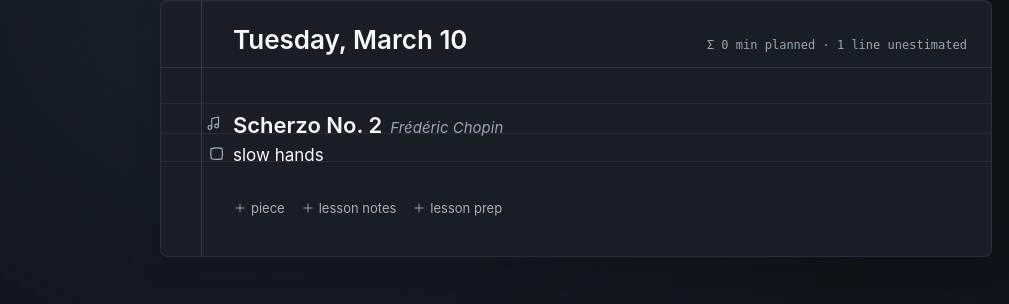
DaySheet — timed blocks + header total (spec 1/2) › adds a timed block from the focused item's chip
The width and height of the screenshot is (1009, 304).
Focus the text box showing "slow hands": (600, 155) [233,140,967,170]
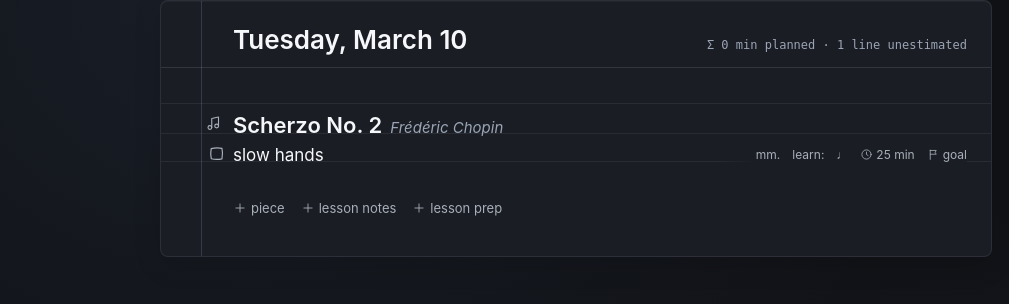
Click the button "25 min": (887, 155) [860,148,915,161]
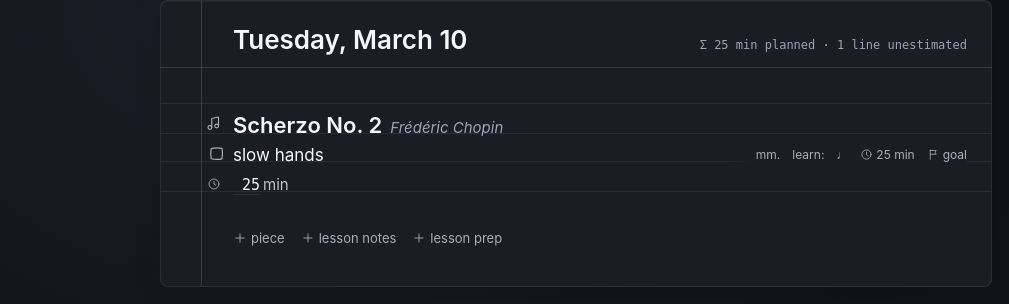
Expected: the text "Σ 25 min planned · 1 line unestimated" is shown, [700,36,967,54]
